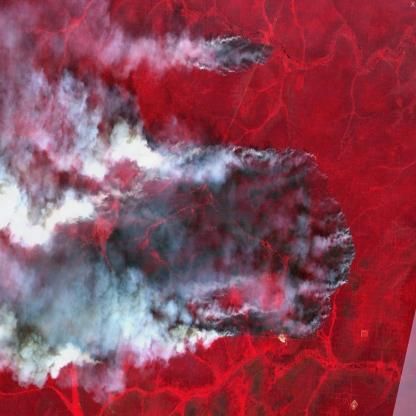fire: (17, 132, 363, 378), (188, 25, 284, 84)
